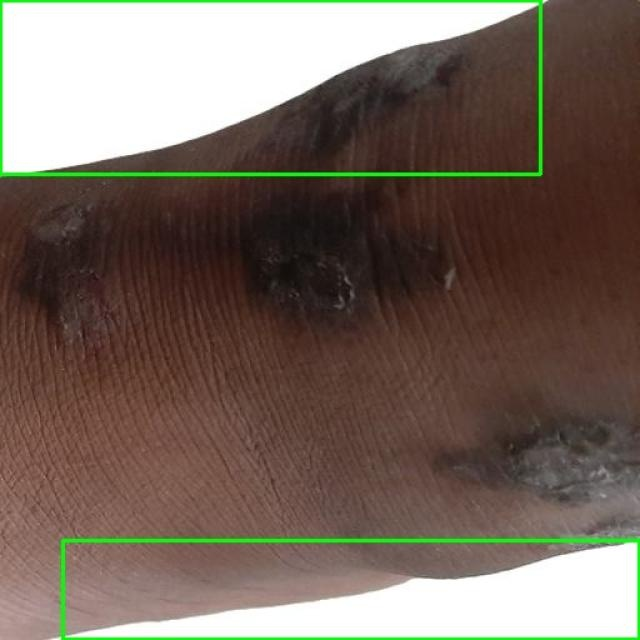Contact Dermatitis: (0, 0, 540, 174), (62, 540, 639, 639)
